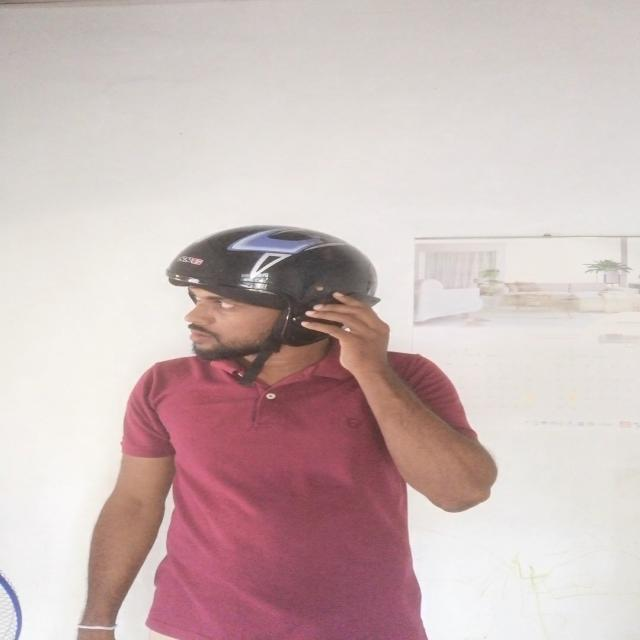Helmet_Wearer: (152, 214, 410, 388)
